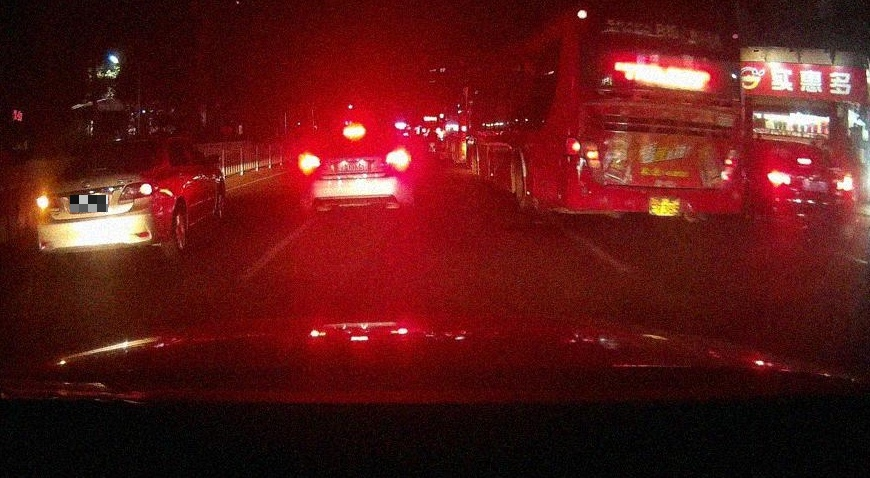L_light: (298, 152, 320, 175), (36, 194, 60, 214), (767, 169, 791, 188)
R_light: (118, 181, 159, 205), (385, 147, 411, 172), (836, 176, 855, 191)
T_light: (343, 123, 366, 141), (797, 158, 811, 165), (92, 167, 107, 172)
night-brake: (297, 122, 411, 211), (765, 139, 856, 226)
night-left: (36, 136, 170, 259)
plate_1: (70, 195, 108, 212)
